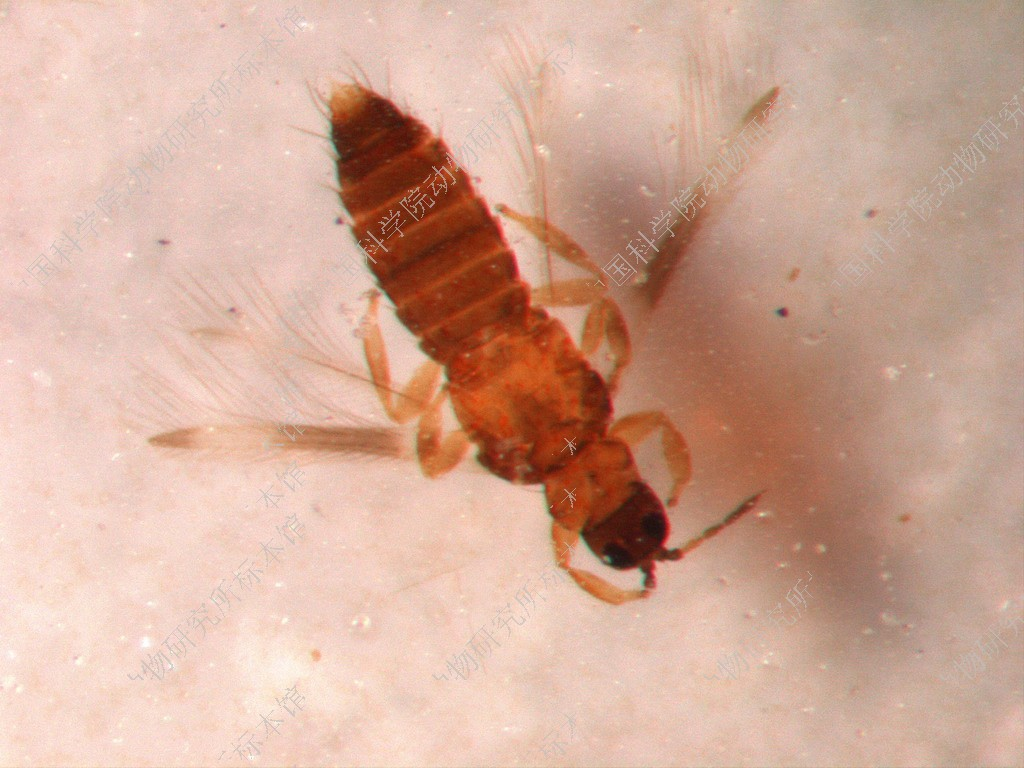Thripidae: (139, 15, 787, 608)
